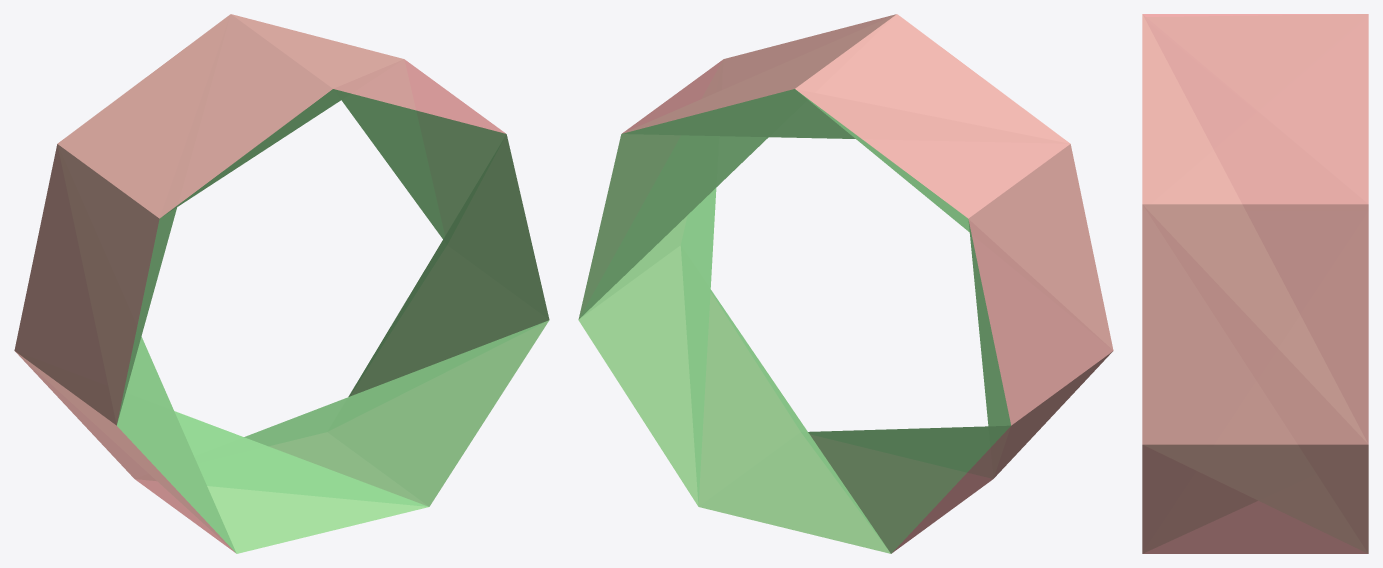
File: HeptagonalIrisToroid2.obj
3 views of the same model, side by side, from view 1: azimuth 30°, elevation 25°; view 2: azimuth 150°, elevation 25°; view 3: azimuth 270°, elevation 25° (orthographic). The views are drawn at different scales.
Size of the model in its own units: 2.25 by 2.19 by 0.92.
